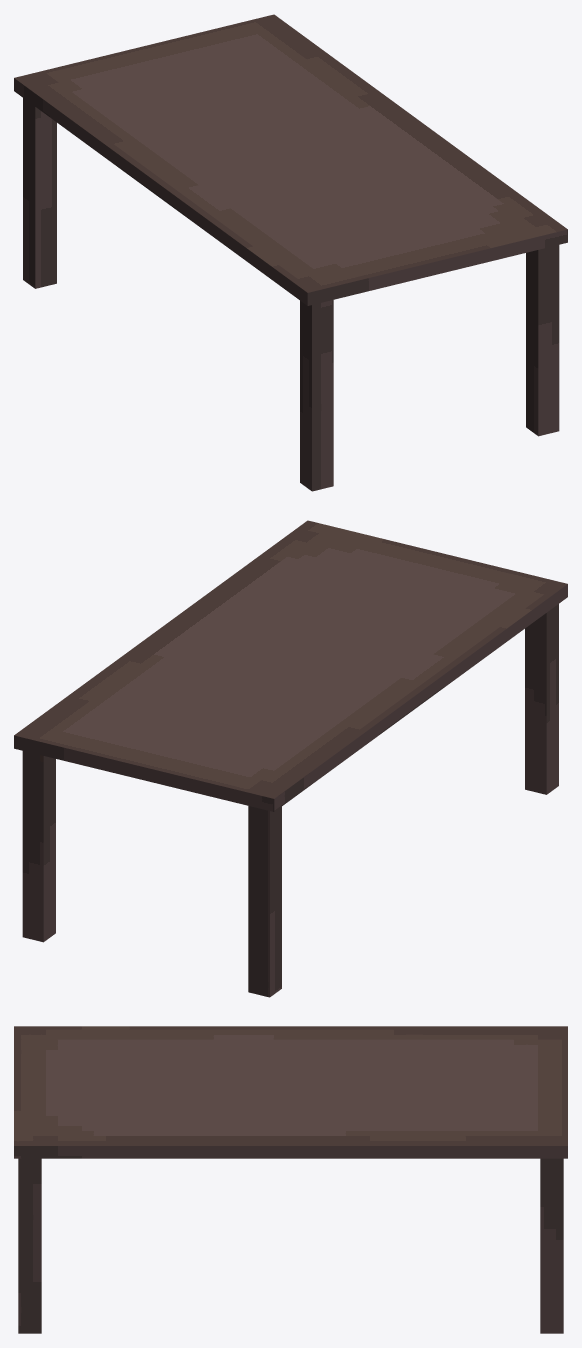
Rendered from Table.fbx.
The picture shows the model from 3 angles, top to bottom: view 1: azimuth 30°, elevation 25°; view 2: azimuth 150°, elevation 25°; view 3: azimuth 270°, elevation 25°; orthographic projection. The views are drawn at different scales.
Parts seen in each view (by area): view 1: Cube.002; view 2: Cube.002; view 3: Cube.002.
Boxes of the visible parts, <box> form: Cube.002: <box>14,14,567,491</box>; Cube.002: <box>14,520,567,997</box>; Cube.002: <box>14,1026,567,1333</box>.
Bounding box in the file's own units: 305 × 227 × 597.
Materials: 1 (1 with a texture image).
